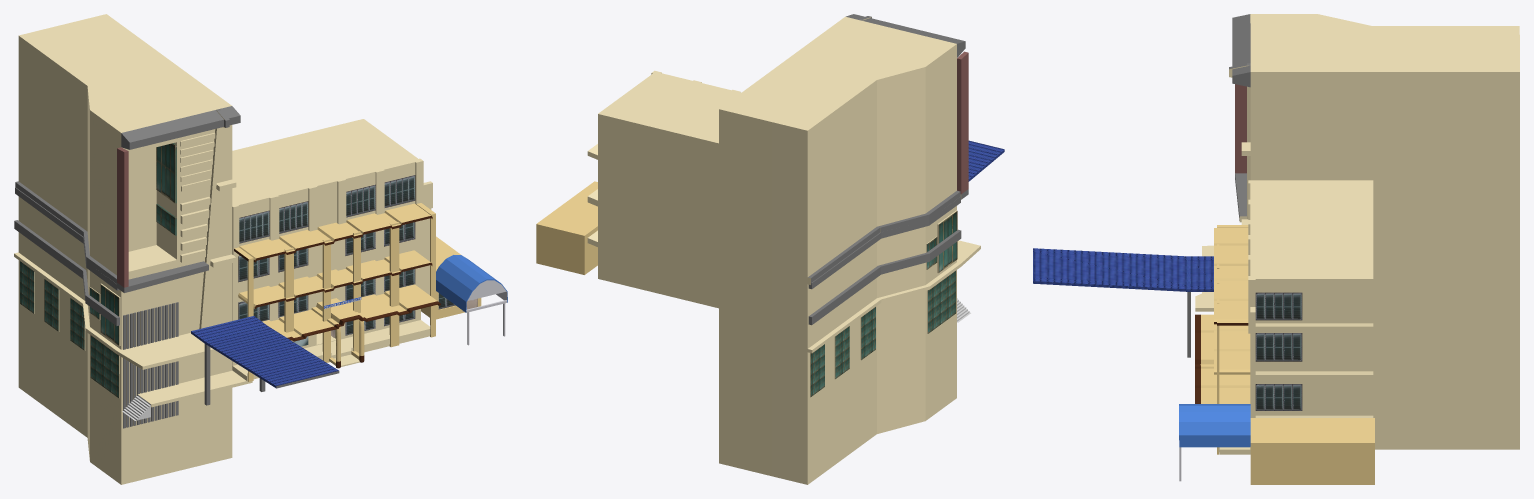
File: CAS_.fbx
3 views of the same model, side by side, from view 1: azimuth 30°, elevation 25°; view 2: azimuth 150°, elevation 25°; view 3: azimuth 270°, elevation 25° (orthographic). The views are drawn at different scales.
Parts seen in each view (by area): view 1: Cube.084, Cube.081, Cube.100, Cube.066, Cube.085, Plane.062, Plane.067, Plane.064, Plane.068, Cube.082, Plane.072; view 2: Cube.084, Cube.081, Cube.082, Cube.100, Plane.072; view 3: Cube.084, Cube.081, Cube.082, Cube.100, Plane.068, Plane.067, Plane.062, Plane.064, Cube.066.
Part boxes in pixels (x1,y1,x2,y2): Cube.084: [14, 14, 240, 484]; Cube.081: [138, 119, 432, 407]; Cube.100: [191, 316, 339, 405]; Cube.066: [234, 203, 435, 381]; Cube.085: [123, 302, 178, 428]; Plane.062: [262, 284, 440, 341]; Plane.067: [239, 203, 432, 262]; Plane.064: [238, 250, 432, 309]; Plane.068: [436, 255, 507, 345]; Cube.082: [421, 236, 481, 319]; Plane.072: [14, 220, 119, 320]; Cube.084: [719, 14, 980, 484]; Cube.081: [587, 70, 740, 308]; Cube.082: [536, 181, 597, 274]; Cube.100: [968, 140, 1004, 181]; Plane.072: [808, 229, 961, 318]; Cube.084: [1195, 14, 1519, 449]; Cube.081: [1219, 180, 1373, 454]; Cube.082: [1250, 418, 1374, 484]; Cube.100: [1033, 248, 1213, 357]; Plane.068: [1179, 404, 1250, 481]; Plane.067: [1214, 228, 1248, 324]; Plane.062: [1195, 314, 1250, 403]; Plane.064: [1214, 324, 1250, 374]; Cube.066: [1217, 225, 1248, 454].
Size of the model in its own units: 11262 by 10391 by 12143.
